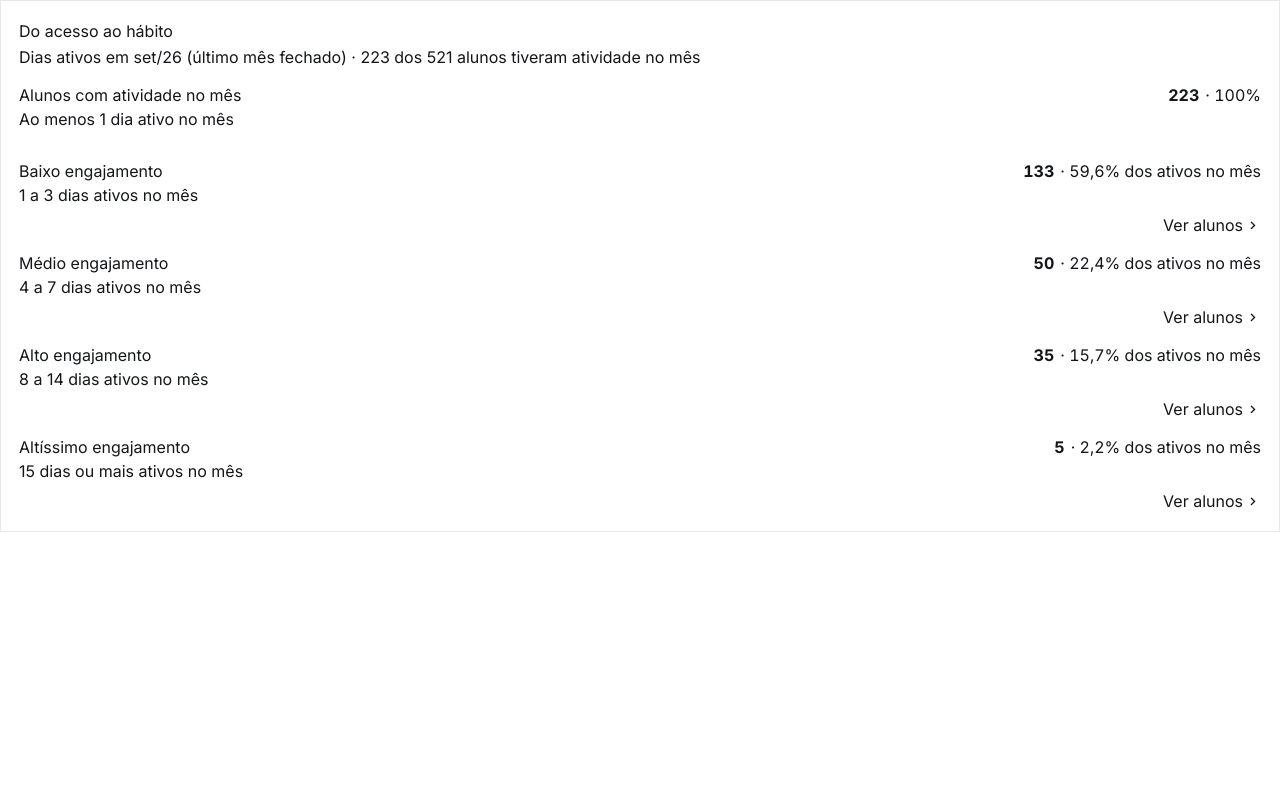
Test case: DoAcessoAoHabito — pop-up da faixa › clicar em baixo abre o pop-up e consulta habito_baixo (20 por página)
Click the button with aria-label "Baixo engajamento: 133 alunos · ver lista de alunos" at (91, 171), box [11,153,1269,243]
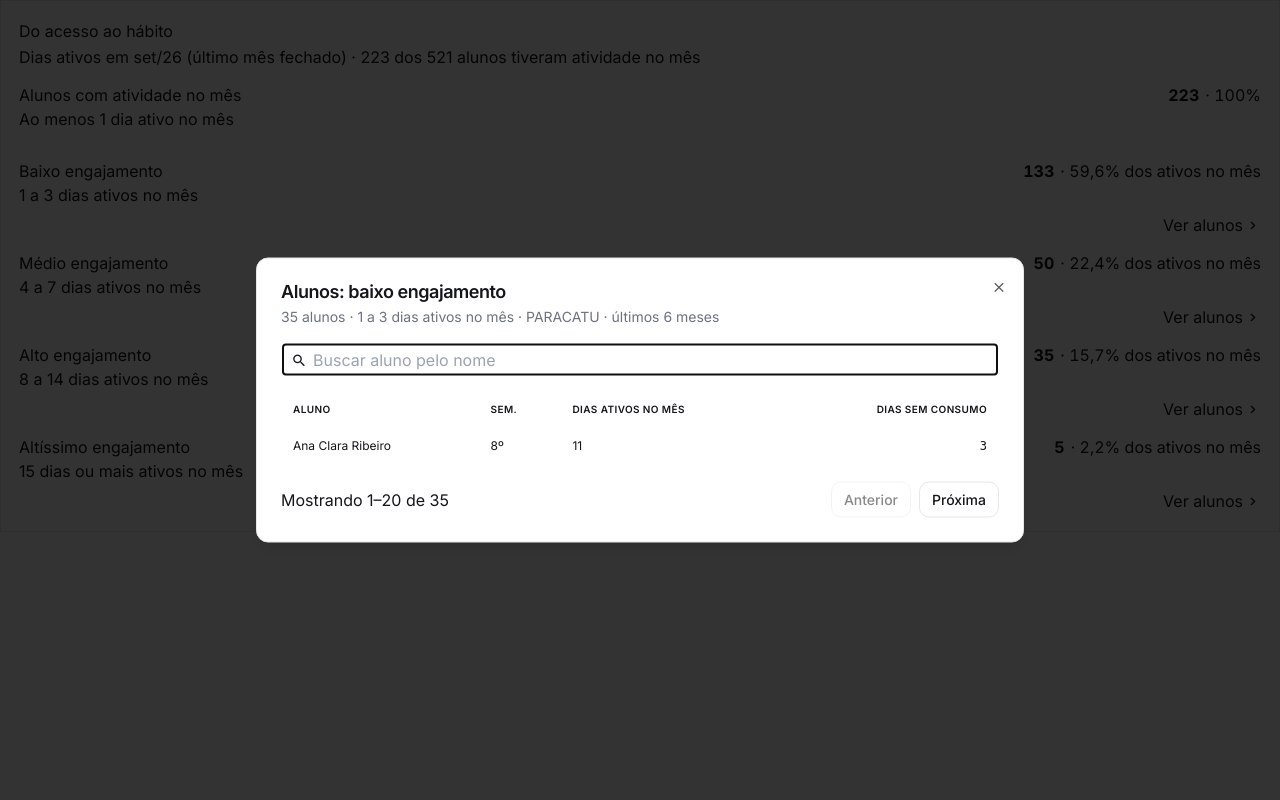
Result: the dialog with test id "lista-alunos-dialog" is shown at [256,258,1024,542]
